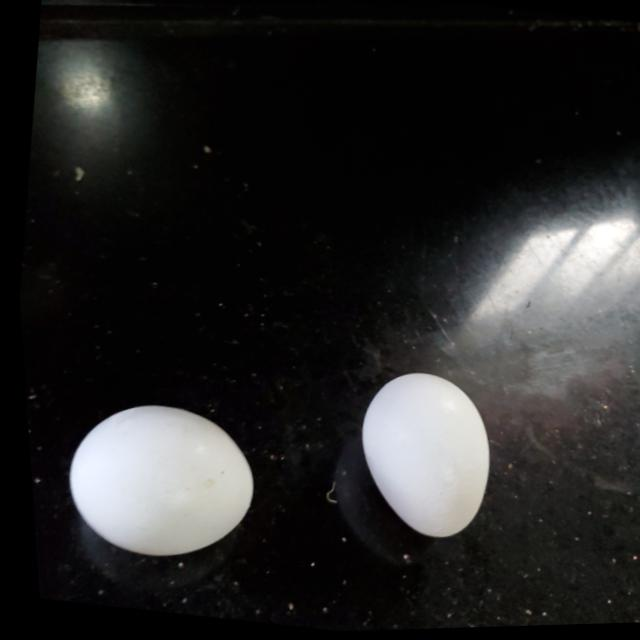egg: (46, 391, 265, 577), (335, 358, 503, 548)
